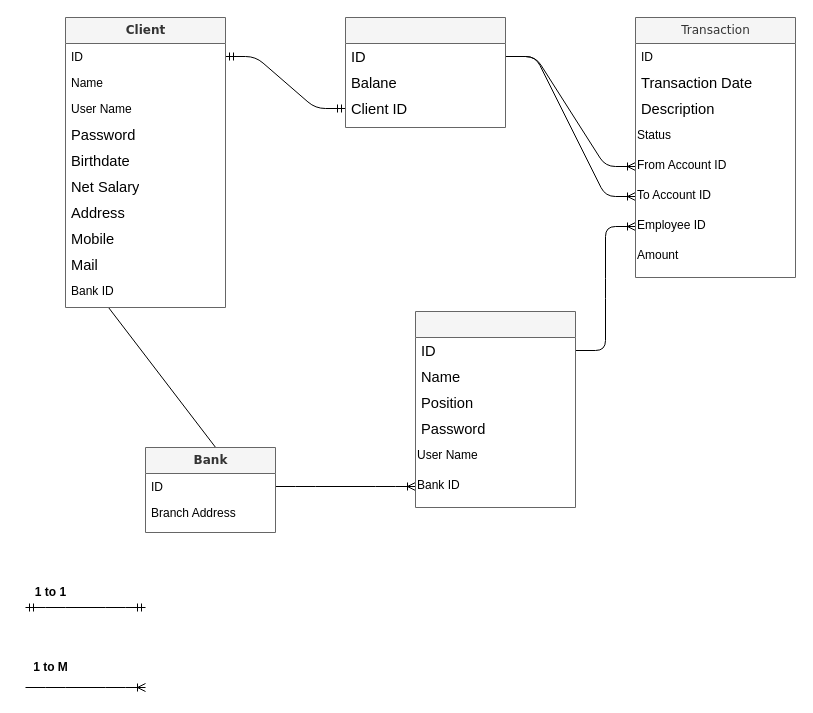
This 813x713 diagram has some shape labels left out. Here are the shapes that lost their labels. From the top down, the box of each, then its label:
(344, 16, 506, 128): Account
(414, 310, 576, 508): Bank Employee
